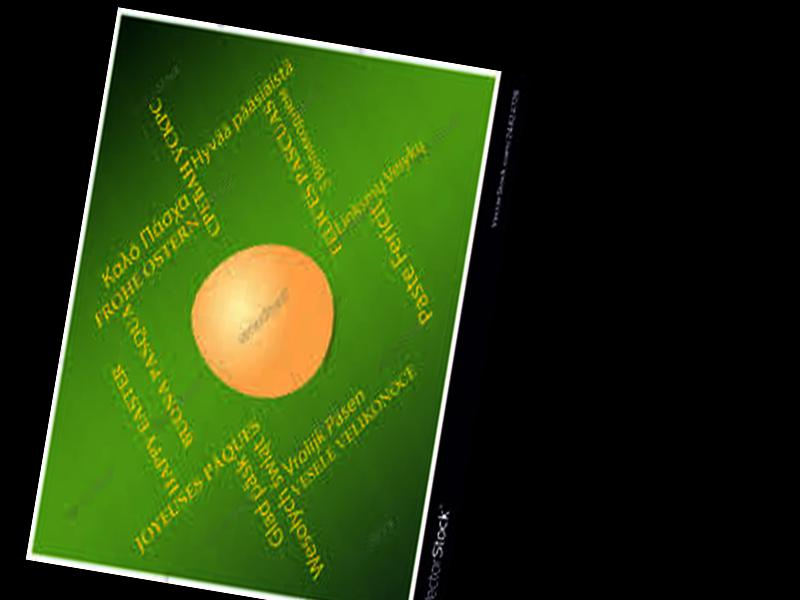Eggs: (183, 232, 343, 405)
